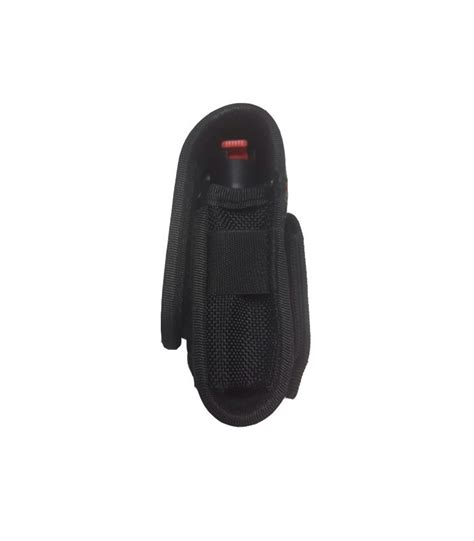nylon: (161, 102, 311, 427)
